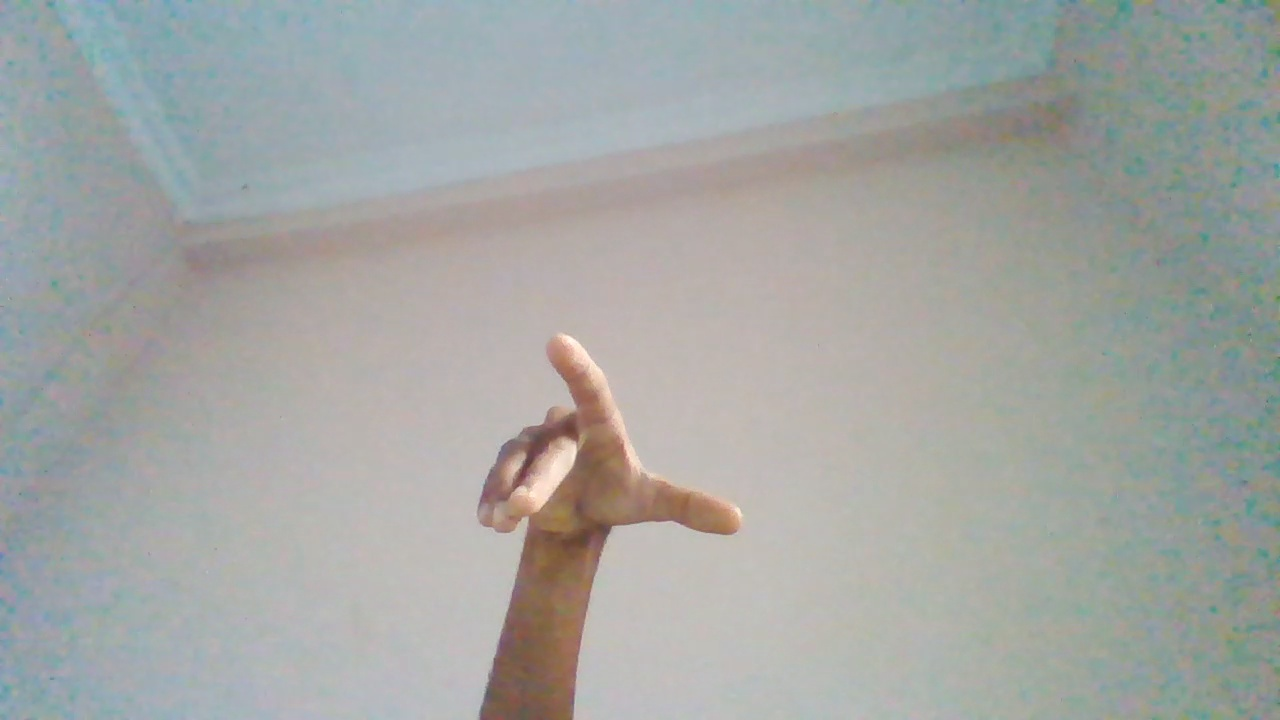ke: (474, 337, 748, 694)
